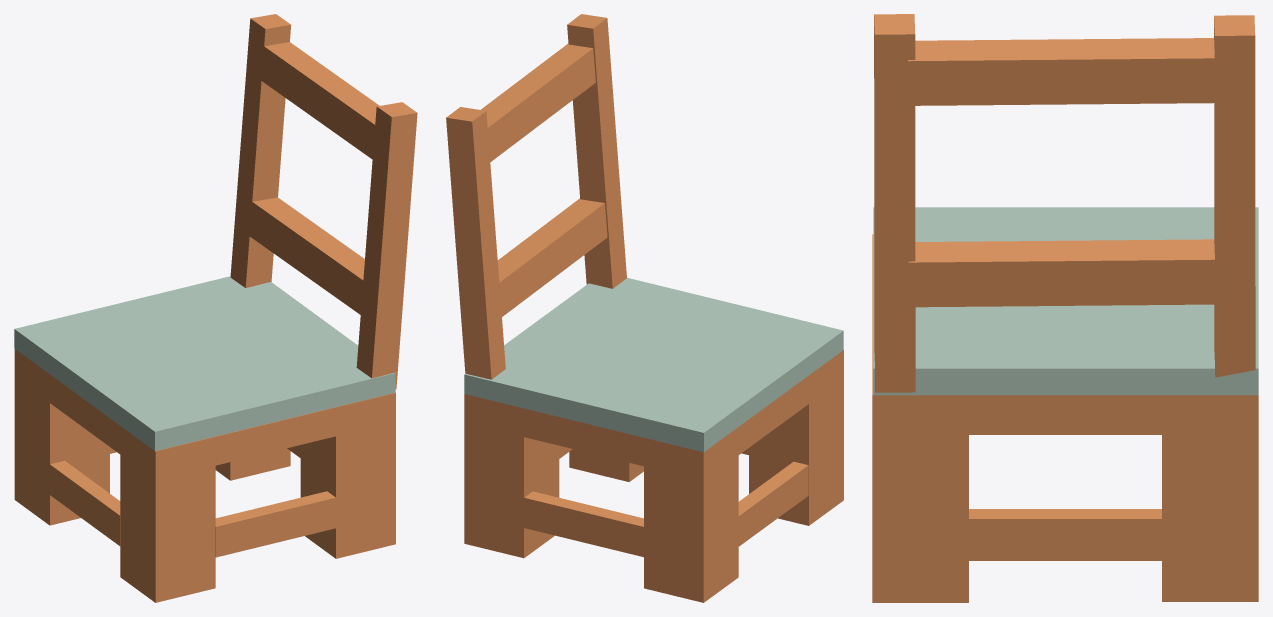
Rendered from silla.glb.
3 renders of one model, left to right at view 1: azimuth 30°, elevation 25°; view 2: azimuth 150°, elevation 25°; view 3: azimuth 270°, elevation 25°, orthographic. The views are drawn at different scales.
Parts seen in each view (by area): view 1: Cubo, Cubo.001, Cubo.002, Cubo.003; view 2: Cubo, Cubo.001, Cubo.002, Cubo.003; view 3: Cubo, Cubo.002, Cubo.001, Cubo.003.
Part boxes in pixels (left/top/right/bottom): Cubo: left=14, top=349, right=395, bottom=602; Cubo.001: left=14, top=276, right=395, bottom=451; Cubo.002: left=230, top=14, right=379, bottom=314; Cubo.003: left=356, top=102, right=417, bottom=388; Cubo: left=464, top=350, right=843, bottom=602; Cubo.001: left=464, top=277, right=843, bottom=452; Cubo.002: left=446, top=43, right=607, bottom=379; Cubo.003: left=567, top=14, right=626, bottom=288; Cubo: left=872, top=234, right=1258, bottom=602; Cubo.002: left=908, top=15, right=1255, bottom=377; Cubo.001: left=873, top=207, right=1258, bottom=395; Cubo.003: left=874, top=14, right=915, bottom=392.
Bounding box in the file's own units: 0.8456 × 1.31 × 0.7842.
